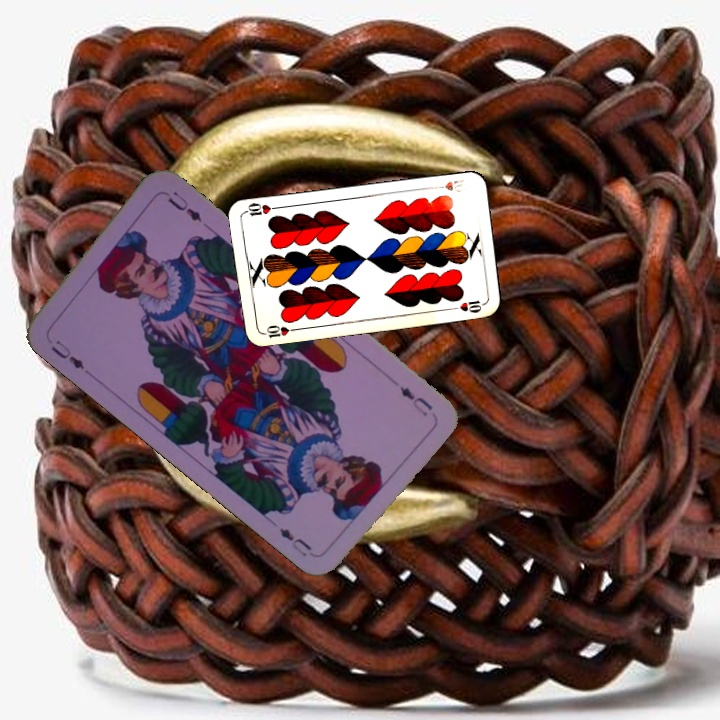EU: (395, 382, 436, 420), (47, 336, 87, 373)
H10: (258, 321, 298, 341), (430, 175, 466, 195)
